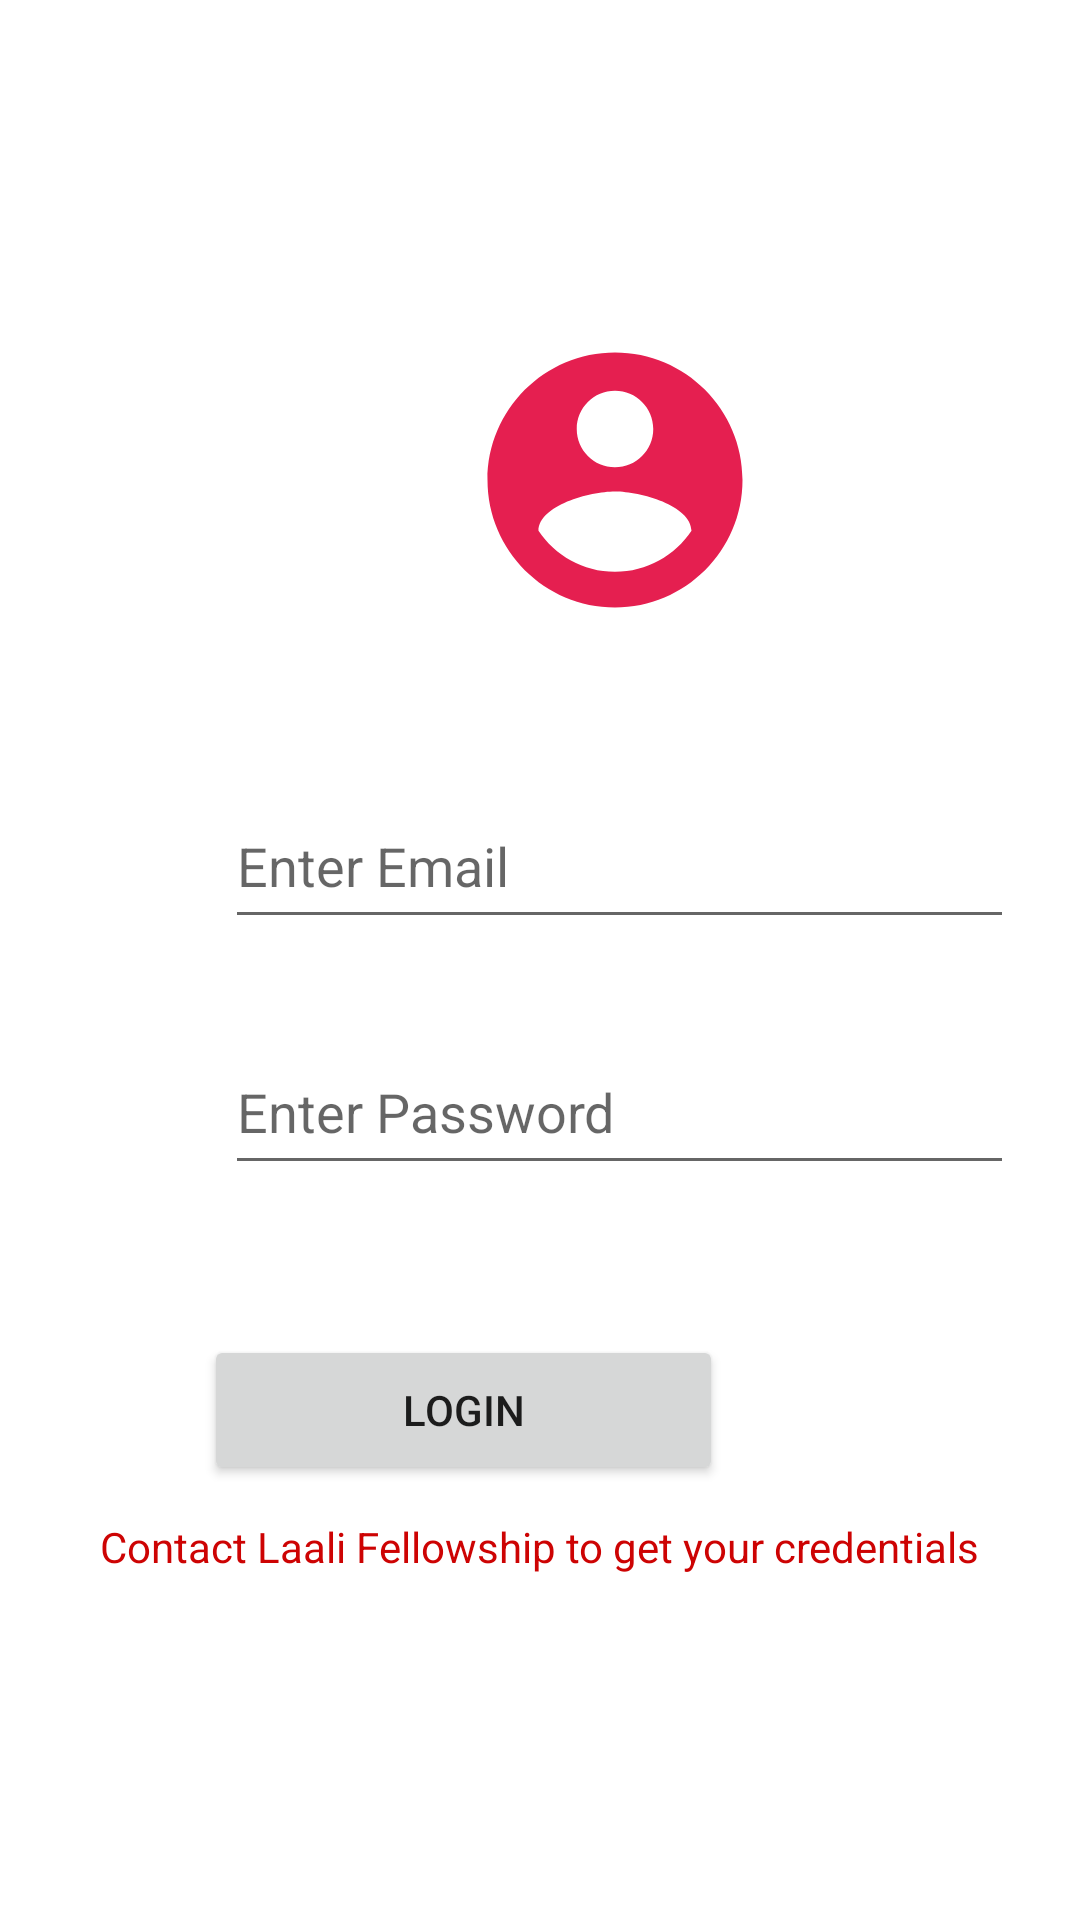

Screen size 1080x1920. Icon name, then its box in pixels as (x1, y1, x2, y2):
account circle: (487, 352, 743, 608)
